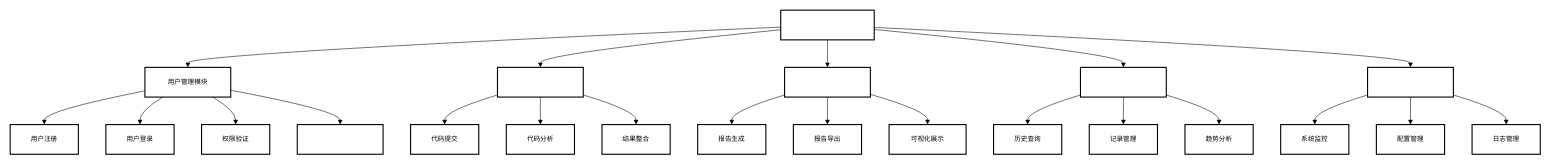
This 1550x164 diagram has some shape labels left out. Each missing label, with the centre of its shape:
AI代码审查系统: point 827,24
个人信息管理: point 339,139
代码审查模块: point 540,82
历史管理模块: point 1123,82
报告生成模块: point 827,82
系统管理模块: point 1410,82
